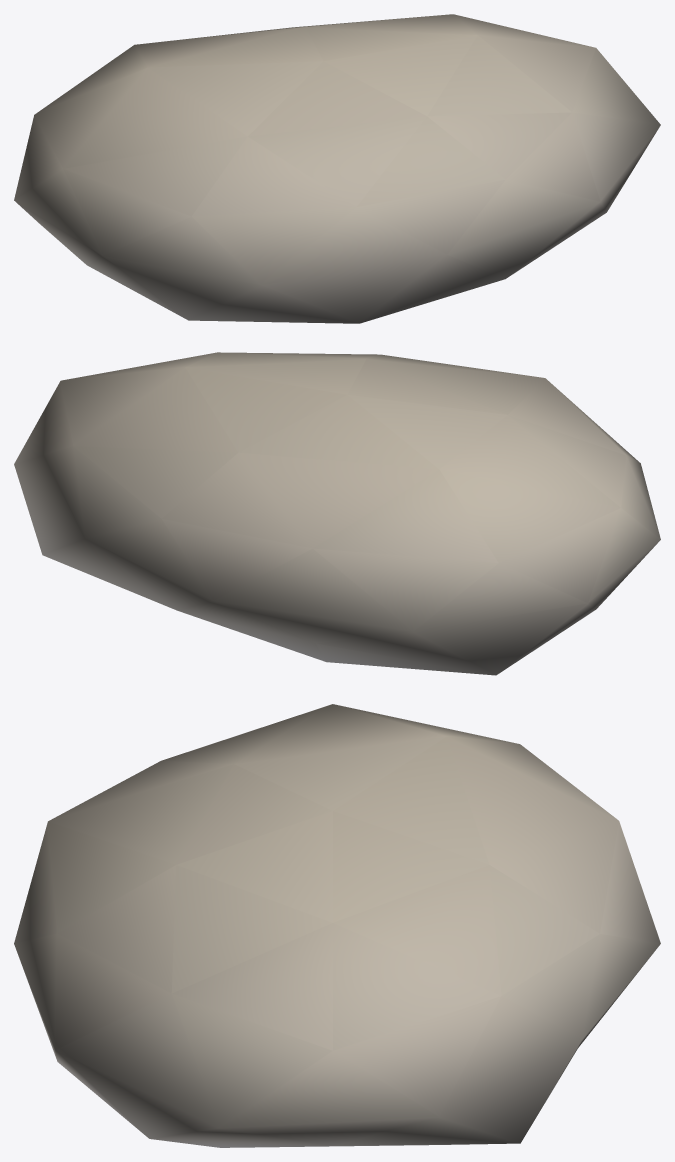
File: cobble_a.glb
The picture shows the model from 3 angles, top to bottom: view 1: azimuth 30°, elevation 25°; view 2: azimuth 150°, elevation 25°; view 3: azimuth 270°, elevation 25°; orthographic projection. The views are drawn at different scales.
Parts seen in each view (by area): view 1: Cobble; view 2: Cobble; view 3: Cobble.
Part boxes in pixels (bbox=[...]): Cobble: bbox=[14, 14, 660, 323]; Cobble: bbox=[14, 352, 660, 675]; Cobble: bbox=[14, 704, 660, 1147].
Bounding box in the file's own units: 0.3195 × 0.1136 × 0.2469.
